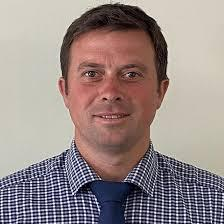person: (44, 0, 184, 147)
